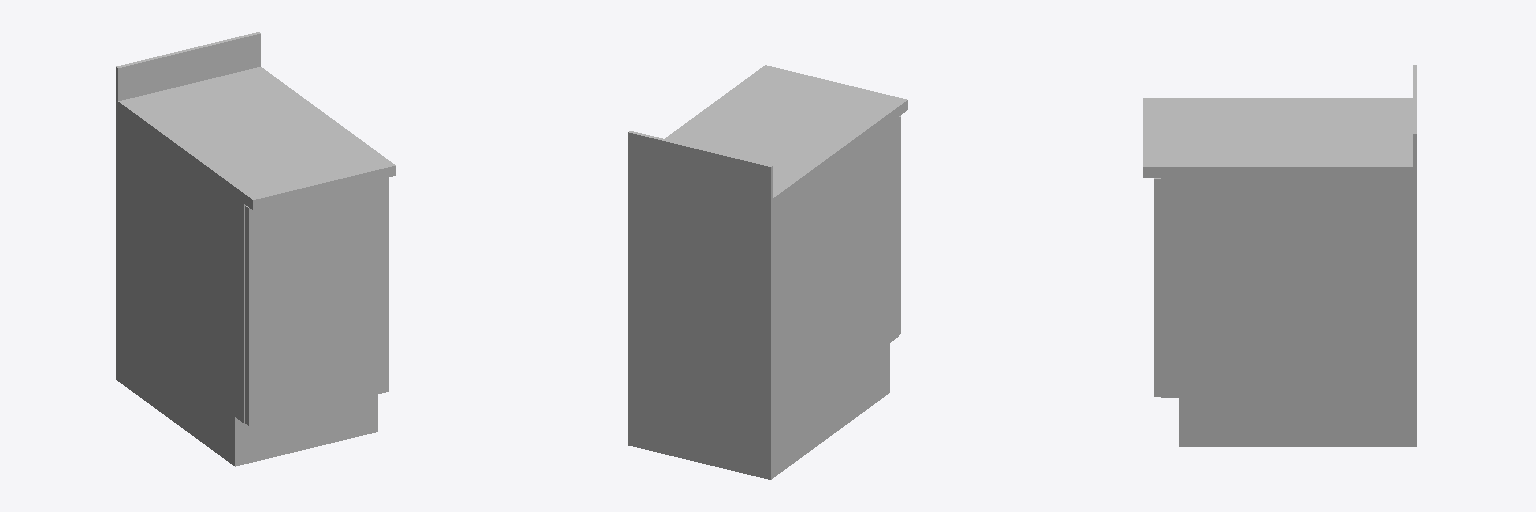
Rendered from color_2_asset_1.obj.
The picture shows the model from 3 angles: view 1: azimuth 30°, elevation 25°; view 2: azimuth 150°, elevation 25°; view 3: azimuth 270°, elevation 25°; orthographic projection.
Visible parts, largest first — view 1: Body_1, Body_2; view 2: Body_1, Body_2; view 3: Body_1, Body_2.
Boxes of the visible parts, box(x1,y1,x2,y2) form: Body_1: box(116, 110, 388, 466); Body_2: box(116, 32, 395, 210); Body_1: box(628, 116, 900, 479); Body_2: box(628, 65, 907, 210); Body_1: box(1154, 178, 1416, 446); Body_2: box(1143, 65, 1416, 177).
Bounding box in the file's own units: 0.4572 × 0.9589 × 0.762.